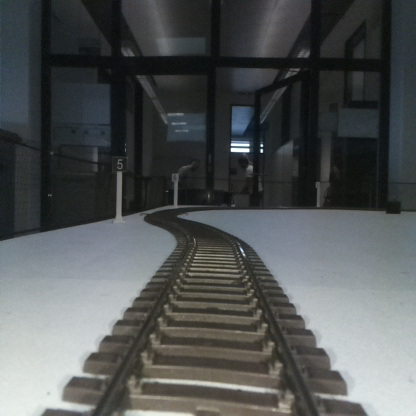black-info-5: (112, 156, 127, 222)
white-info-6: (172, 172, 178, 208)
